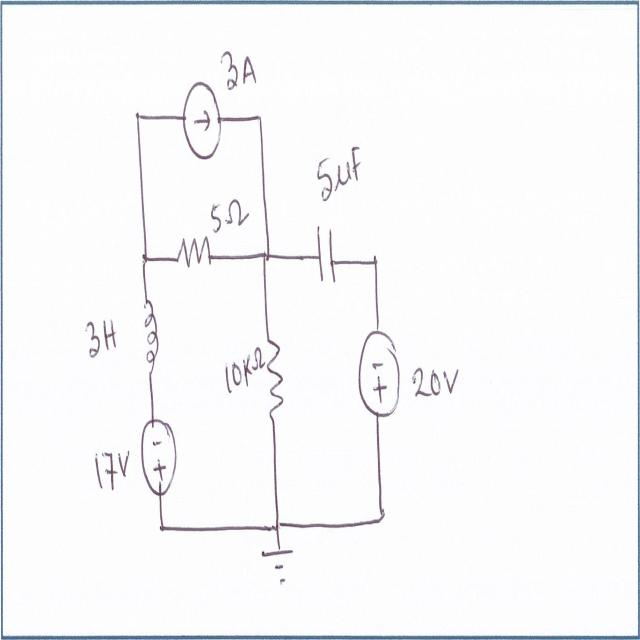capacitor: (312, 220, 341, 286)
current_source: (180, 77, 223, 166)
ground: (261, 544, 296, 592)
inductor: (140, 287, 161, 383)
resistor: (170, 229, 219, 277), (265, 329, 286, 424)
voltage_source: (354, 322, 408, 425), (136, 412, 178, 498)
